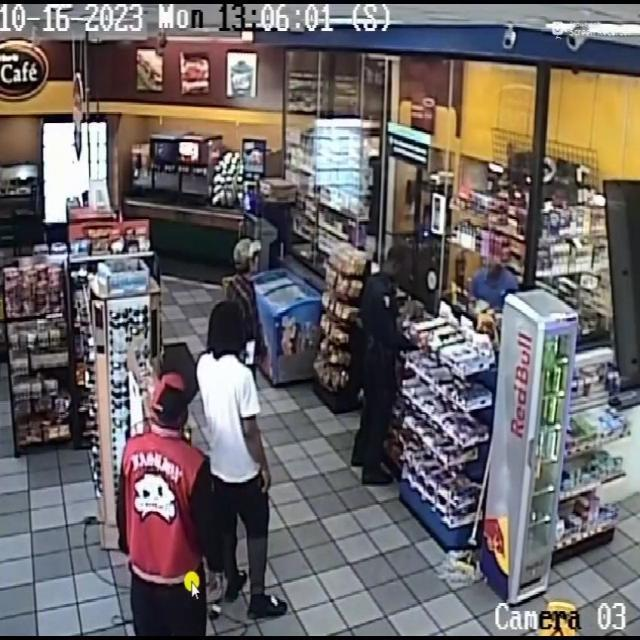Normal: (90, 373, 238, 640), (195, 294, 300, 631), (340, 233, 429, 504), (215, 212, 286, 328)
